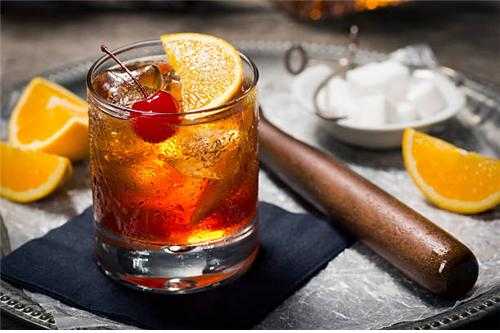alcohol: (89, 36, 262, 291)
